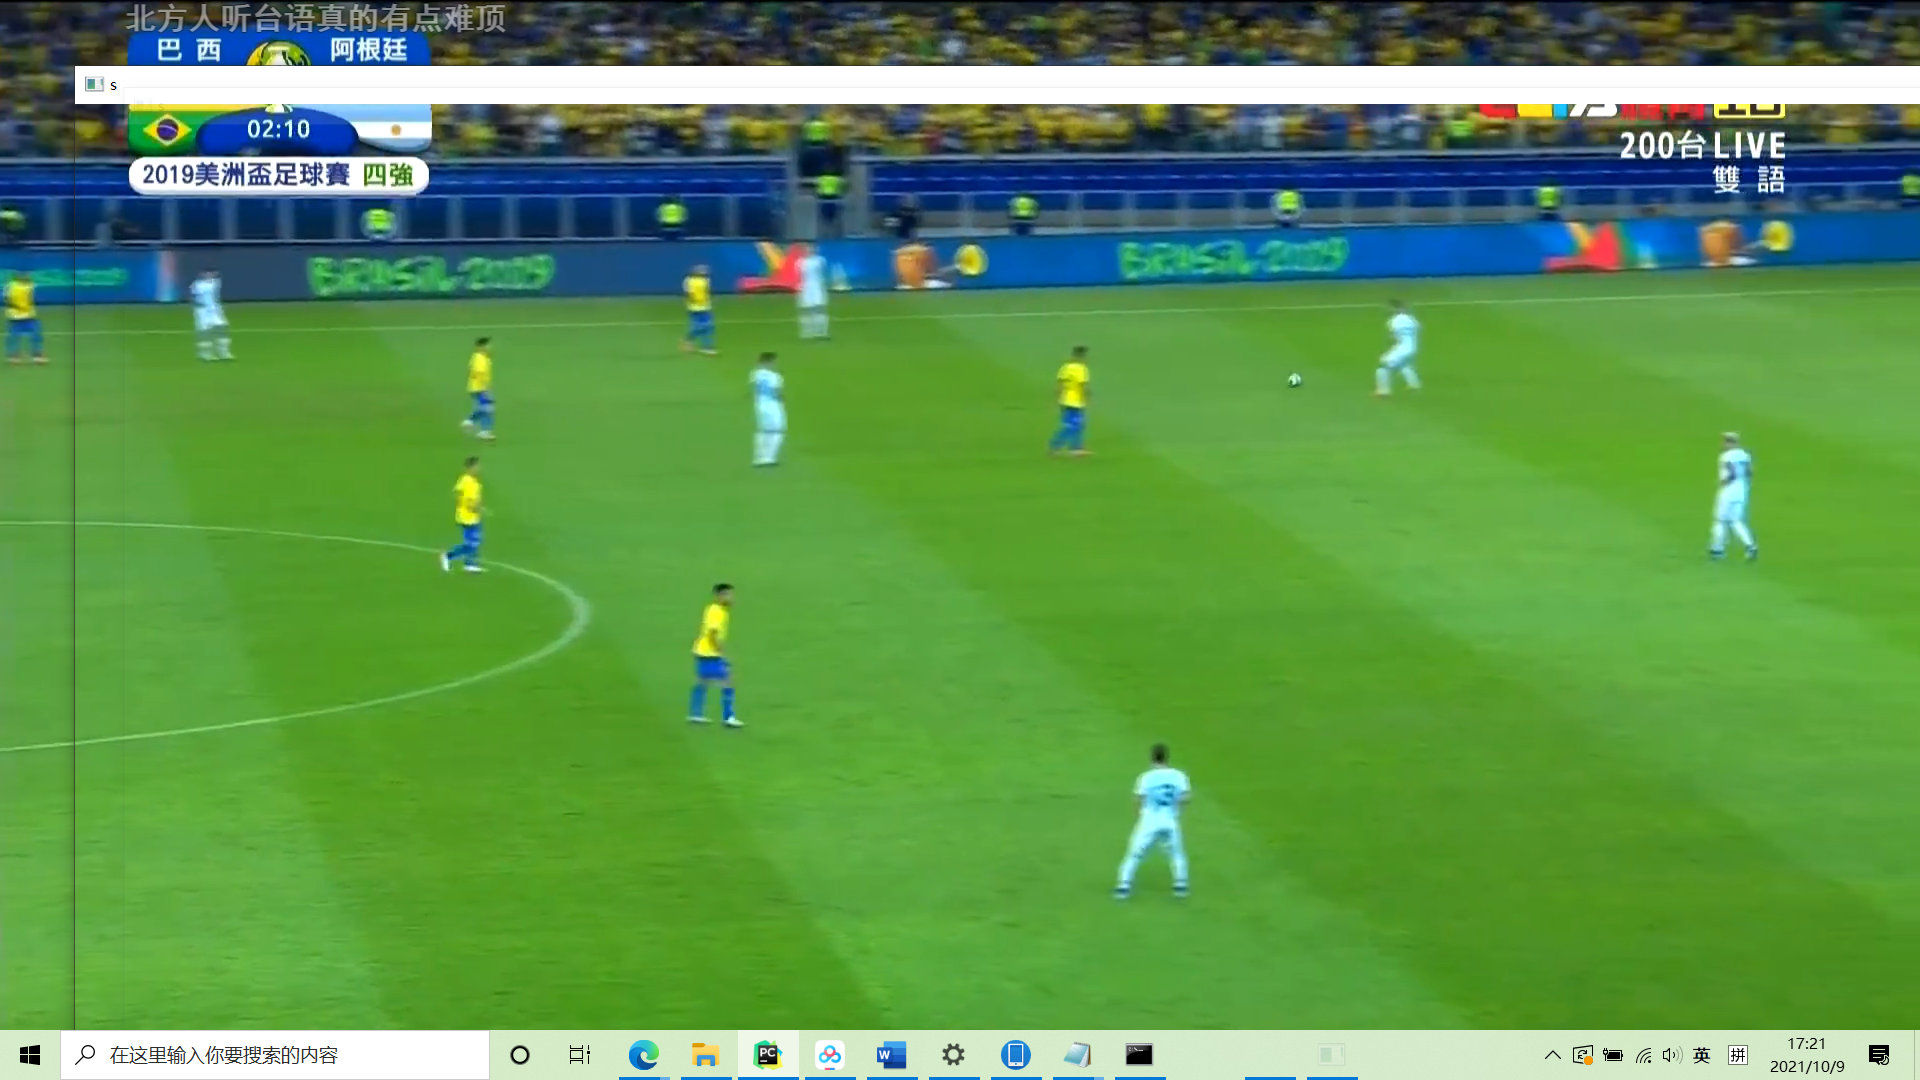ft: (1287, 373, 1302, 386)
